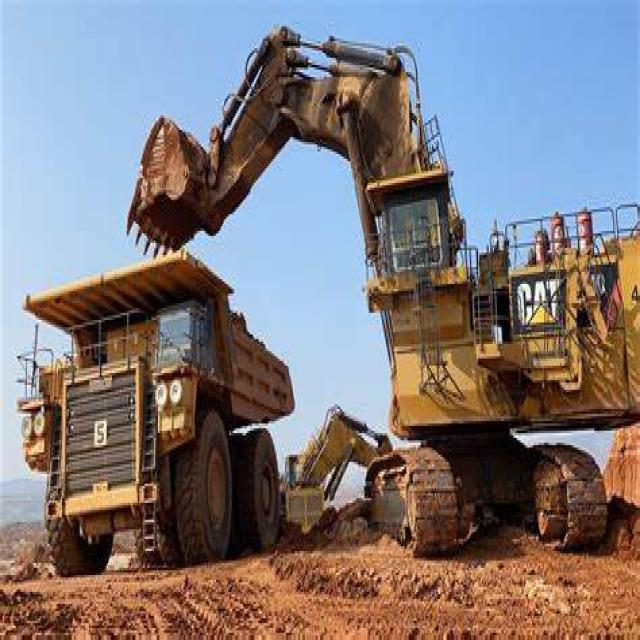dump_truck: (4, 250, 301, 585)
excavator: (131, 24, 639, 626)
